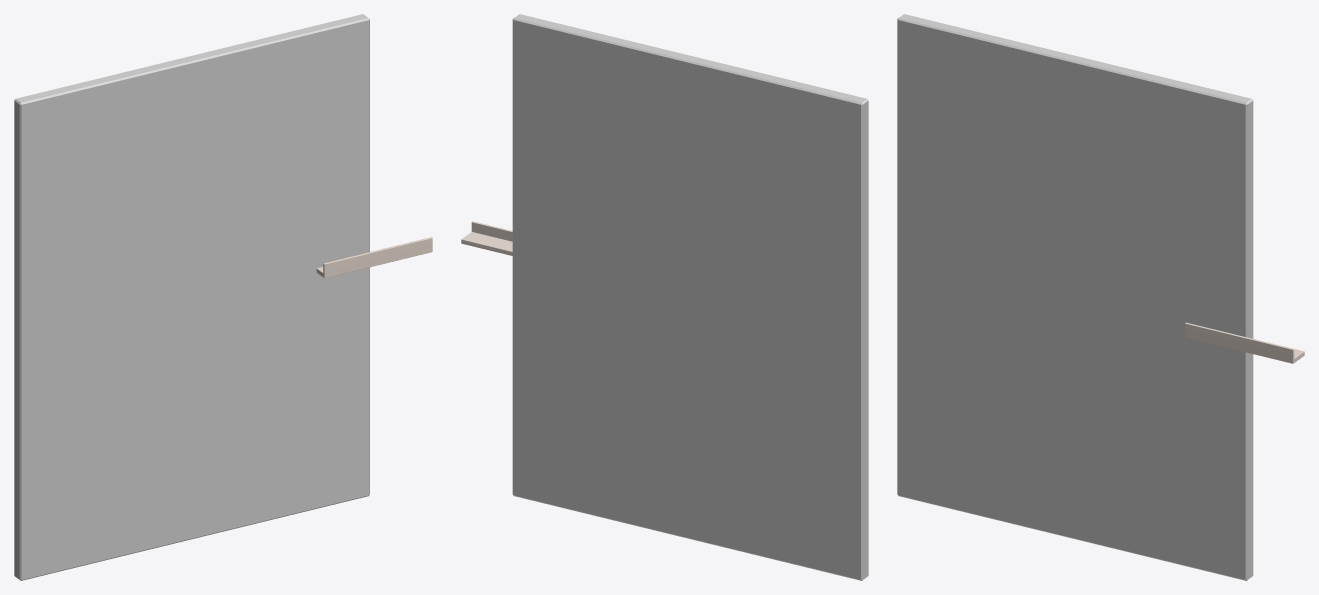
The model's file is Cabinet_d88d132f.obj.
3 renders of one model, left to right at view 1: azimuth 30°, elevation 25°; view 2: azimuth 150°, elevation 25°; view 3: azimuth 330°, elevation 25°, orthographic.
Visible parts, largest first — view 1: DoorMesh_01_65cf1b38, handle_3_178mm_01_c0fec9ca; view 2: DoorMesh_01_65cf1b38, handle_3_178mm_01_c0fec9ca; view 3: DoorMesh_01_65cf1b38, handle_3_178mm_01_c0fec9ca.
Part boxes in pixels (box(x1,y1,x2,y2)): DoorMesh_01_65cf1b38: box(14, 14, 369, 580); handle_3_178mm_01_c0fec9ca: box(316, 237, 432, 278); DoorMesh_01_65cf1b38: box(512, 14, 868, 580); handle_3_178mm_01_c0fec9ca: box(461, 221, 512, 255); DoorMesh_01_65cf1b38: box(897, 14, 1253, 580); handle_3_178mm_01_c0fec9ca: box(1185, 322, 1304, 363).
Bounding box in the file's own units: 0.664 × 0.75 × 0.0426.
